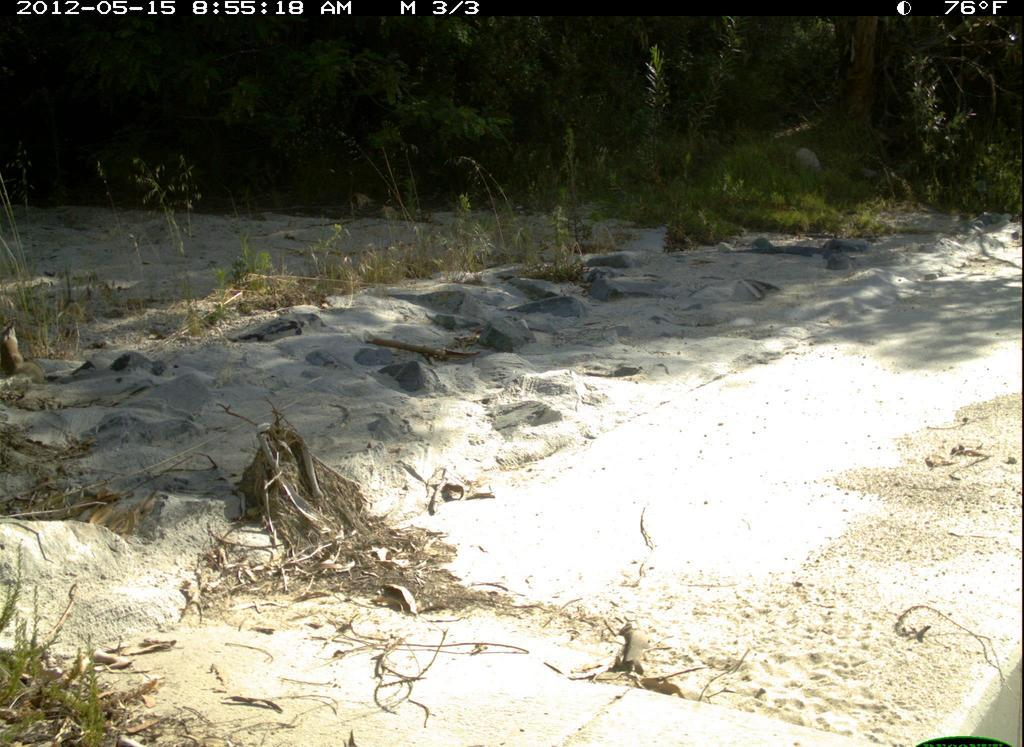squirrel: (2, 321, 49, 393)
